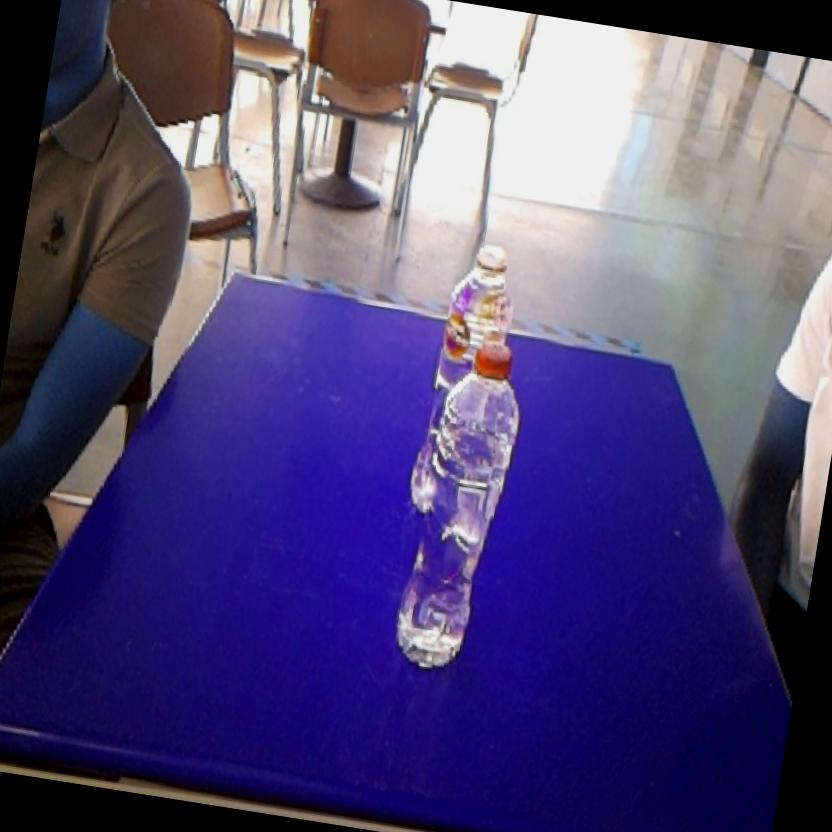no_cap: (437, 230, 536, 338)
no_label: (382, 330, 536, 684)
